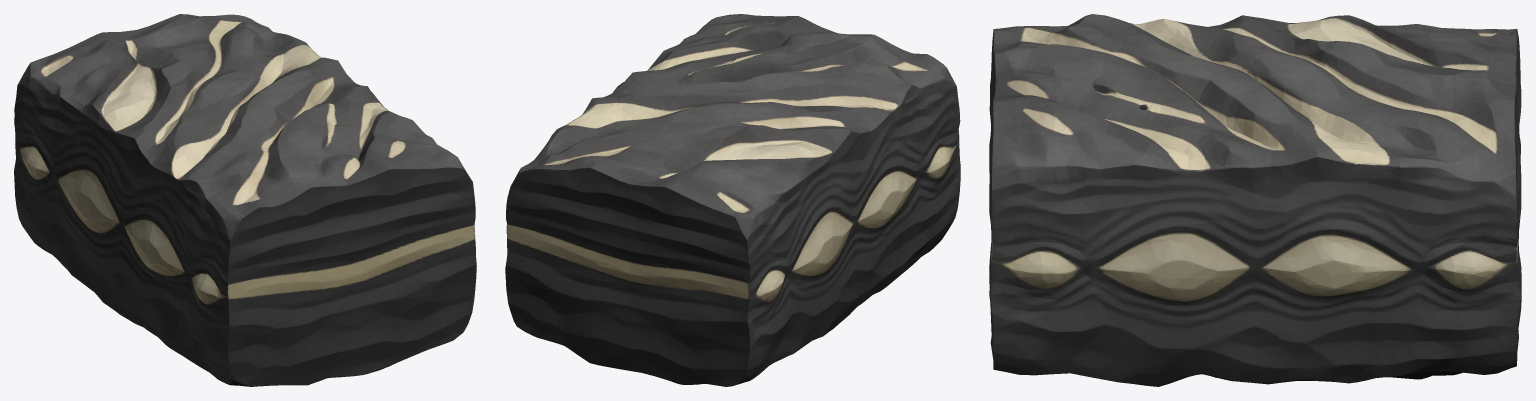
3 views of the same model, side by side, from view 1: azimuth 30°, elevation 25°; view 2: azimuth 150°, elevation 25°; view 3: azimuth 270°, elevation 25° (orthographic). The views are drawn at different scales.
Parts seen in each view (by area): view 1: world; view 2: world; view 3: world.
Part boxes in pixels (box(x1,y1,x2,y2)): world: box(14, 14, 476, 386); world: box(505, 14, 960, 386); world: box(989, 14, 1521, 386).
Size of the model in its own units: 0.6991 by 0.5493 by 0.9999.
Materials: 1 (1 with a texture image).
